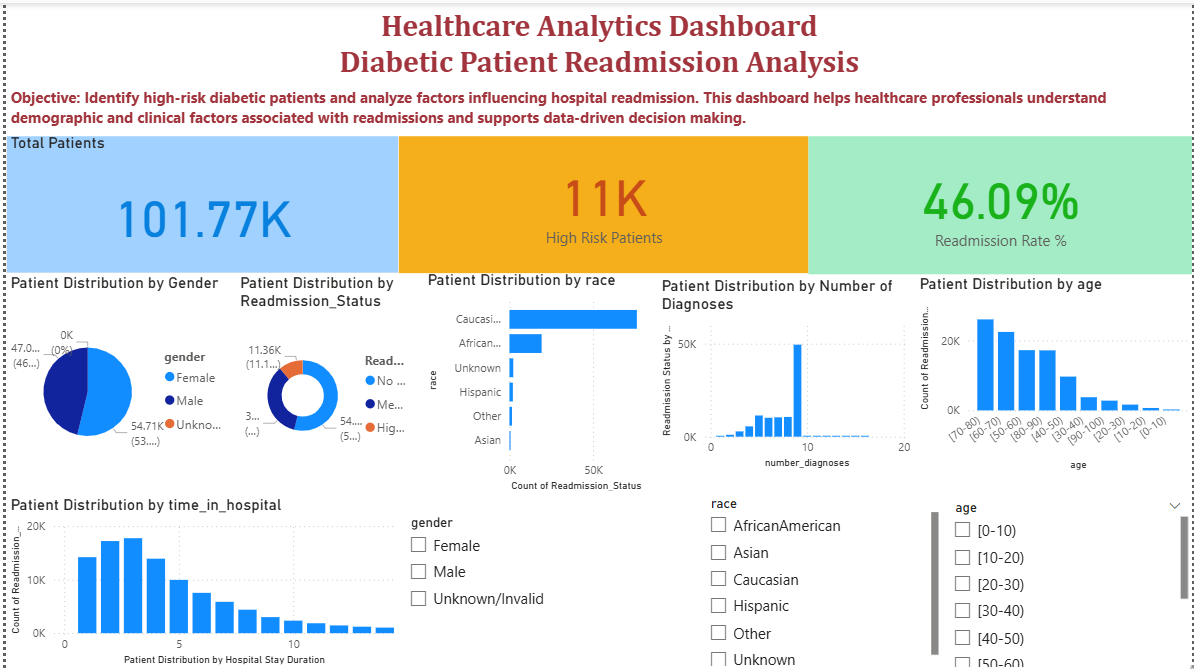

This screenshot's page, from the dashboard's own definition file:
{"tool":"powerbi","page":{"name":"Page 1","canvas":[1280,720],"ordinal":0},"visuals":[{"type":"card","title":"Total Patients ","fields":{"Values":["CountNonNull(diabetic_data.Readmission_Status)"]},"box":[0,140.9,424.2,150.6],"z":0},{"type":"donutChart","title":"Patient Distribution by Readmission_Status","fields":{"Category":["diabetic_data.Readmission_Status"],"Y":["CountNonNull(diabetic_data.Readmission_Status)"]},"box":[247.7,291.5,202.4,225.1],"z":1000},{"type":"clusteredColumnChart","title":"Patient Distribution by age","fields":{"Category":["diabetic_data.age"],"Y":["CountNonNull(diabetic_data.Readmission_Status)"]},"box":[981.3,293.1,299.6,215.4],"z":2000},{"type":"pieChart","title":"Patient Distribution by Gender","fields":{"Category":["diabetic_data.gender"],"Y":["CountNonNull(diabetic_data.Readmission_Status)"]},"box":[0,291.5,247.7,236.4],"z":3000},{"type":"clusteredBarChart","title":"Patient Distribution by race","fields":{"Category":["diabetic_data.race"],"Y":["CountNonNull(diabetic_data.Readmission_Status)"]},"box":[450.1,288.2,252.6,242.9],"z":4000},{"type":"card","fields":{"Values":["IDS_mapping.High Risk Patients"]},"box":[424.2,137.6,442,153.8],"z":5000},{"type":"card","fields":{"Values":["IDS_mapping.Readmission Rate %"]},"box":[866.3,140.9,414.5,152.2],"z":6000},{"type":"slicer","fields":{"Values":["diabetic_data.gender"]},"box":[424.2,547.3,323.8,171.6],"z":7000},{"type":"slicer","fields":{"Values":["diabetic_data.race"]},"box":[748.1,526.2,263.9,194.3],"z":8000},{"type":"slicer","fields":{"Values":["diabetic_data.age"]},"box":[1012,531.1,268.8,189.4],"z":9000},{"type":"clusteredColumnChart","title":"Patient Distribution by time_in_hospital","fields":{"Category":["diabetic_data.time_in_hospital"],"Y":["CountNonNull(diabetic_data.Readmission_Status)"]},"box":[0,531.1,424.2,187.8],"z":10000},{"type":"clusteredColumnChart","title":"Patient Distribution by Number of Diagnoses","fields":{"Category":["diabetic_data.number_diagnoses"],"Y":["CountNonNull(diabetic_data.Readmission_Status)"]},"box":[702.7,294.7,278.5,212.1],"z":11000},{"type":"textbox","box":[0,0,1280.7,103.6],"z":12000},{"type":"textbox","box":[0,85.6,1280.7,57.8],"z":13000}]}

Visuals, with their boxes in screenshot pixels (x1, y1, x2, y2), scaled from the page's 1280x720 canvas onto the 1194x669 screenshot:
"Total Patients " card: bbox=[0, 131, 396, 271]
"Patient Distribution by Readmission_Status" donutChart: bbox=[231, 271, 420, 480]
"Patient Distribution by age" clusteredColumnChart: bbox=[915, 272, 1193, 472]
"Patient Distribution by Gender" pieChart: bbox=[0, 271, 231, 491]
"Patient Distribution by race" clusteredBarChart: bbox=[420, 268, 655, 493]
card - IDS_mapping.High Risk Patients: bbox=[396, 128, 808, 271]
card - IDS_mapping.Readmission Rate %: bbox=[808, 131, 1193, 272]
slicer - diabetic_data.gender: bbox=[396, 509, 698, 668]
slicer - diabetic_data.race: bbox=[698, 489, 944, 668]
slicer - diabetic_data.age: bbox=[944, 493, 1193, 668]
"Patient Distribution by time_in_hospital" clusteredColumnChart: bbox=[0, 493, 396, 668]
"Patient Distribution by Number of Diagnoses" clusteredColumnChart: bbox=[655, 274, 915, 471]
textbox: bbox=[0, 0, 1193, 96]
textbox: bbox=[0, 80, 1193, 133]
